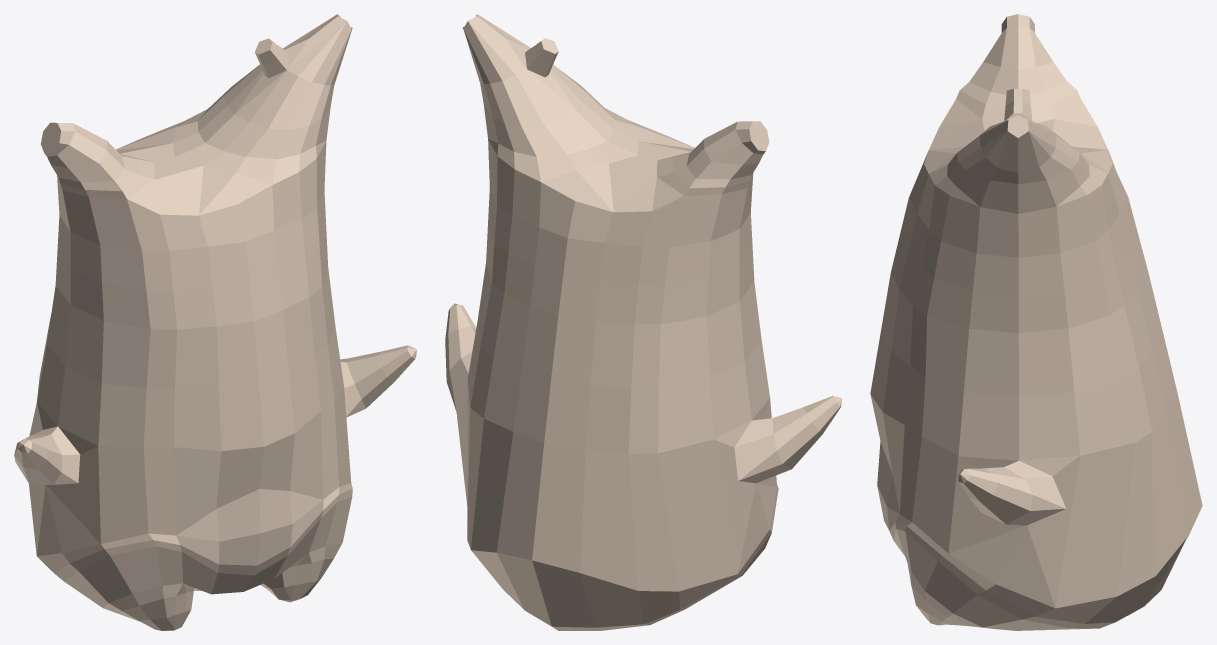
The model's file is frame_0136.obj.
The picture shows the model from 3 angles, left to right: view 1: azimuth 30°, elevation 25°; view 2: azimuth 150°, elevation 25°; view 3: azimuth 270°, elevation 25°; orthographic projection. The views are drawn at different scales.
Visible parts, largest first — view 1: korok; view 2: korok; view 3: korok.
Boxes of the visible parts, x1,y1,x2,y2 form: korok: (14,14,416,630); korok: (445,14,841,630); korok: (870,14,1202,630).
Size of the model in its own units: 1.47 by 1.96 by 1.04.
